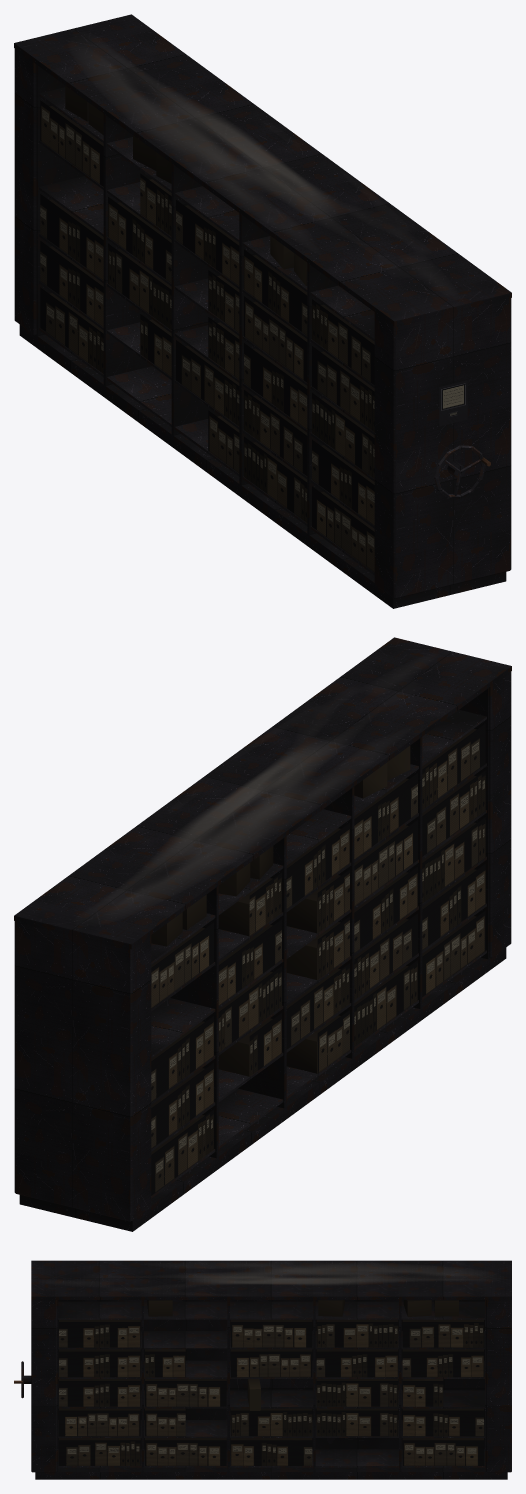
File: archive_stack.glb
The picture shows the model from 3 angles, top to bottom: view 1: azimuth 30°, elevation 25°; view 2: azimuth 150°, elevation 25°; view 3: azimuth 270°, elevation 25°; orthographic projection. The views are drawn at different scales.
Parts seen in each view (by area): view 1: body, panels, decals; view 2: body, panels, decals; view 3: body, panels, decals.
Boxes of the visible parts, box(x1,y1,x2,y2) form: body: box(14, 14, 511, 608); panels: box(40, 100, 467, 572); decals: box(86, 51, 335, 221); body: box(14, 637, 511, 1231); panels: box(151, 723, 485, 1195); decals: box(110, 739, 345, 913); body: box(14, 1260, 511, 1479); panels: box(59, 1322, 483, 1465); decals: box(181, 1263, 477, 1284).
Size of what is drawn, in the model's own units: 1.08 by 2.4 by 5.8.
9 materials, 6 textured.
